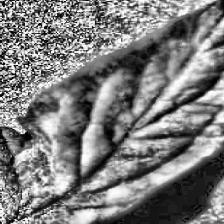Anthracnose Fruit Rot: (134, 44, 212, 103), (78, 133, 116, 179), (188, 115, 224, 148), (56, 204, 101, 224)
